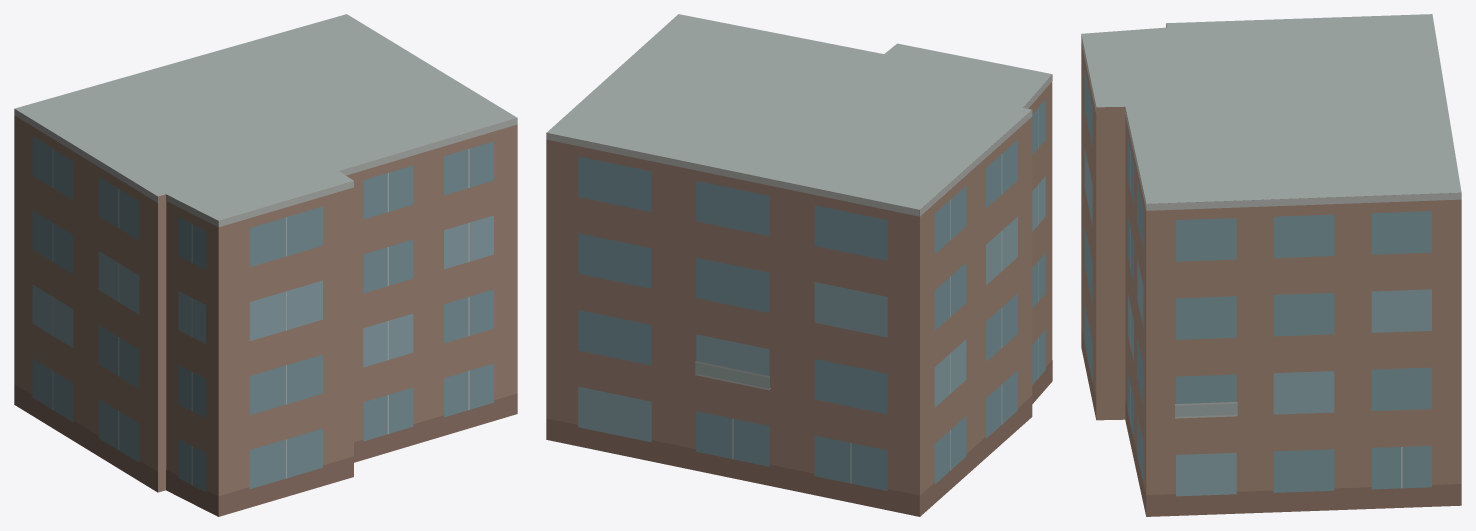
Rendered from survey-upis-32516428.glb.
3 views of the same model, side by side, from view 1: azimuth 30°, elevation 25°; view 2: azimuth 150°, elevation 25°; view 3: azimuth 270°, elevation 25° (orthographic). The views are drawn at different scales.
Visible parts, largest first — view 1: survey-upis-32516428.tmp; view 2: survey-upis-32516428.tmp; view 3: survey-upis-32516428.tmp.
Boxes of the visible parts, x1,y1,x2,y2 form: survey-upis-32516428.tmp: [14, 14, 517, 516]; survey-upis-32516428.tmp: [546, 14, 1052, 516]; survey-upis-32516428.tmp: [1081, 14, 1461, 516].
Bounding box in the file's own units: 14.32 × 11 × 12.12.
